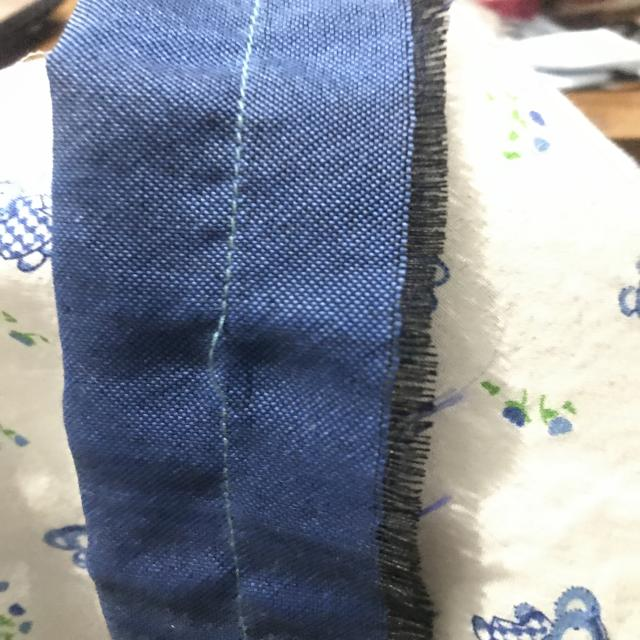good: (218, 122, 250, 241)
skip: (197, 294, 259, 428)
